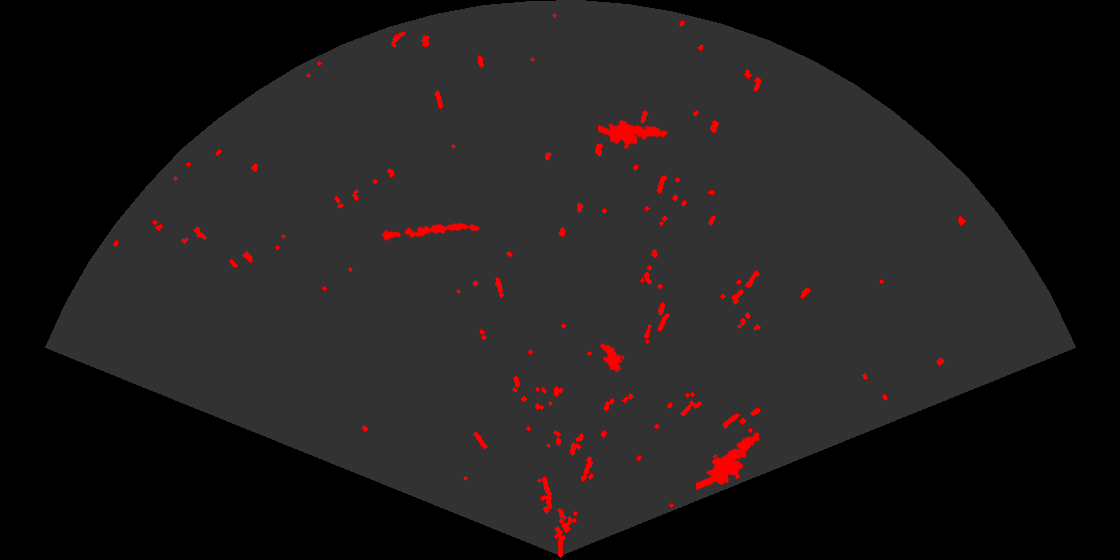AUV: (598, 341, 624, 374)
chain: (380, 221, 481, 242)
frogman: (696, 431, 761, 492), (598, 118, 670, 150)
